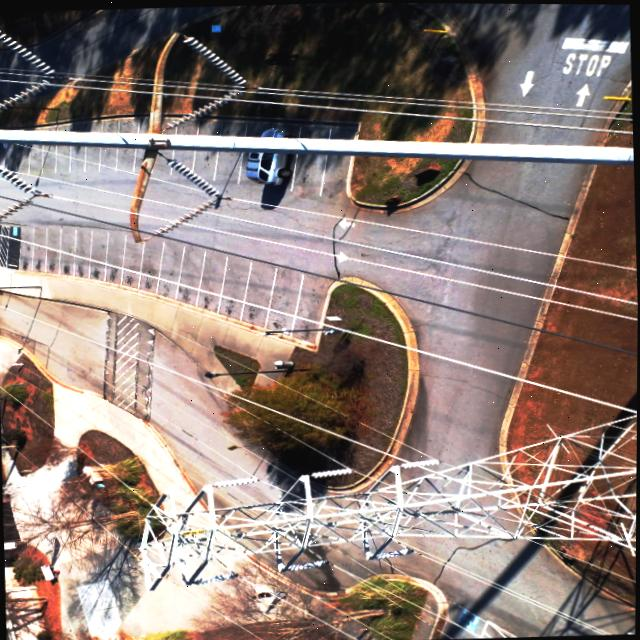poles: (130, 410, 638, 589), (0, 31, 632, 166), (156, 157, 222, 233), (0, 29, 60, 112), (0, 162, 45, 220)
wires: (0, 203, 638, 353), (417, 341, 630, 408)
